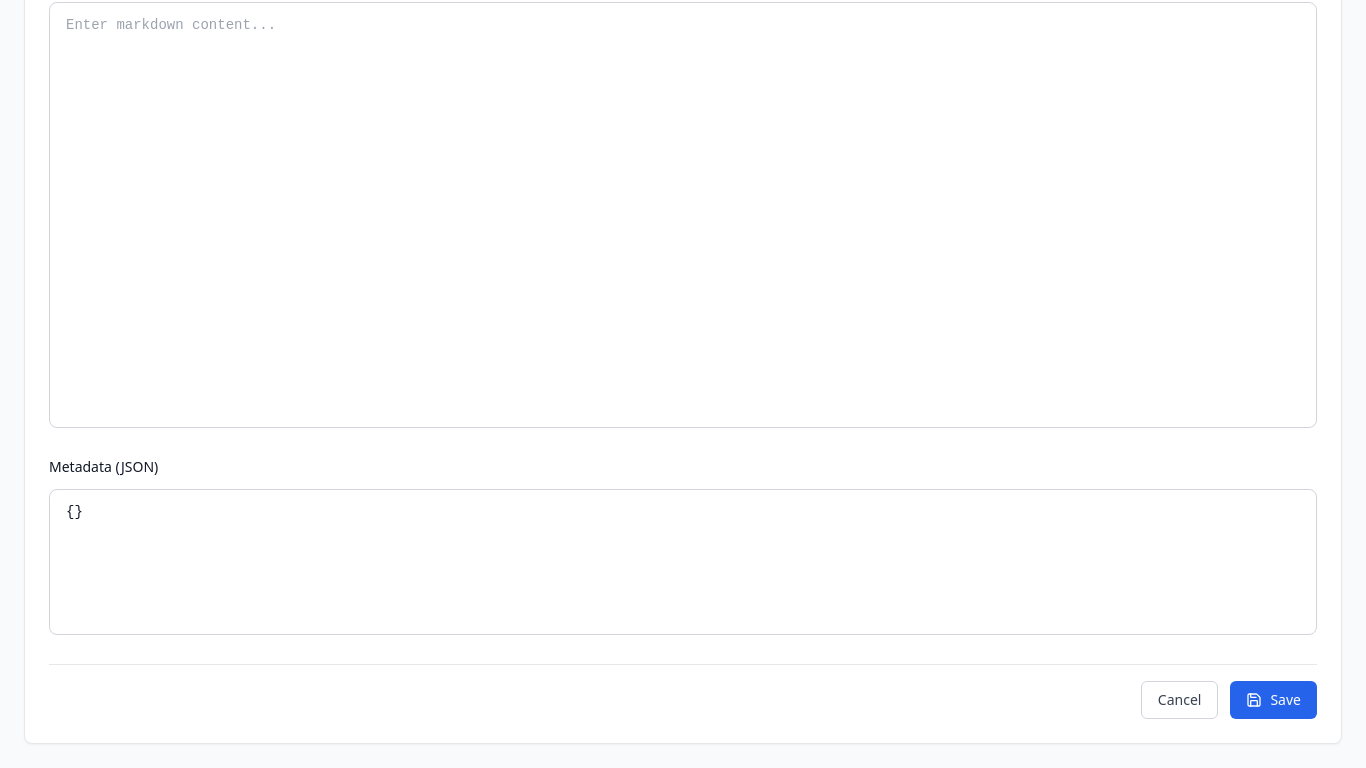
ArticleEditor › Validation › should display validation error for empty text
(page scrolled)
Click the button "Save". click: {"x": 1274, "y": 700}
box: [1230,681,1317,719]
(page scrolled)
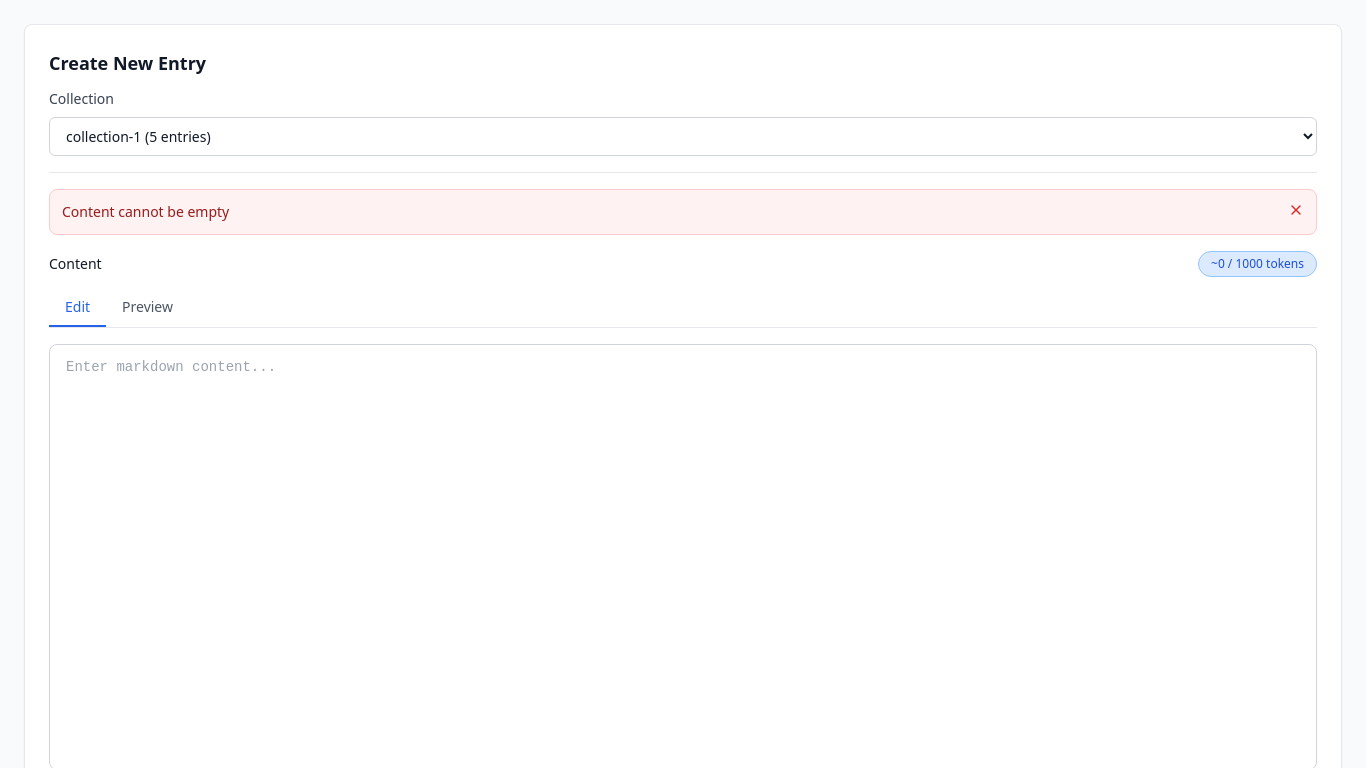
expect the text "Content cannot be empty" is shown: met, box [62,202,229,222]
